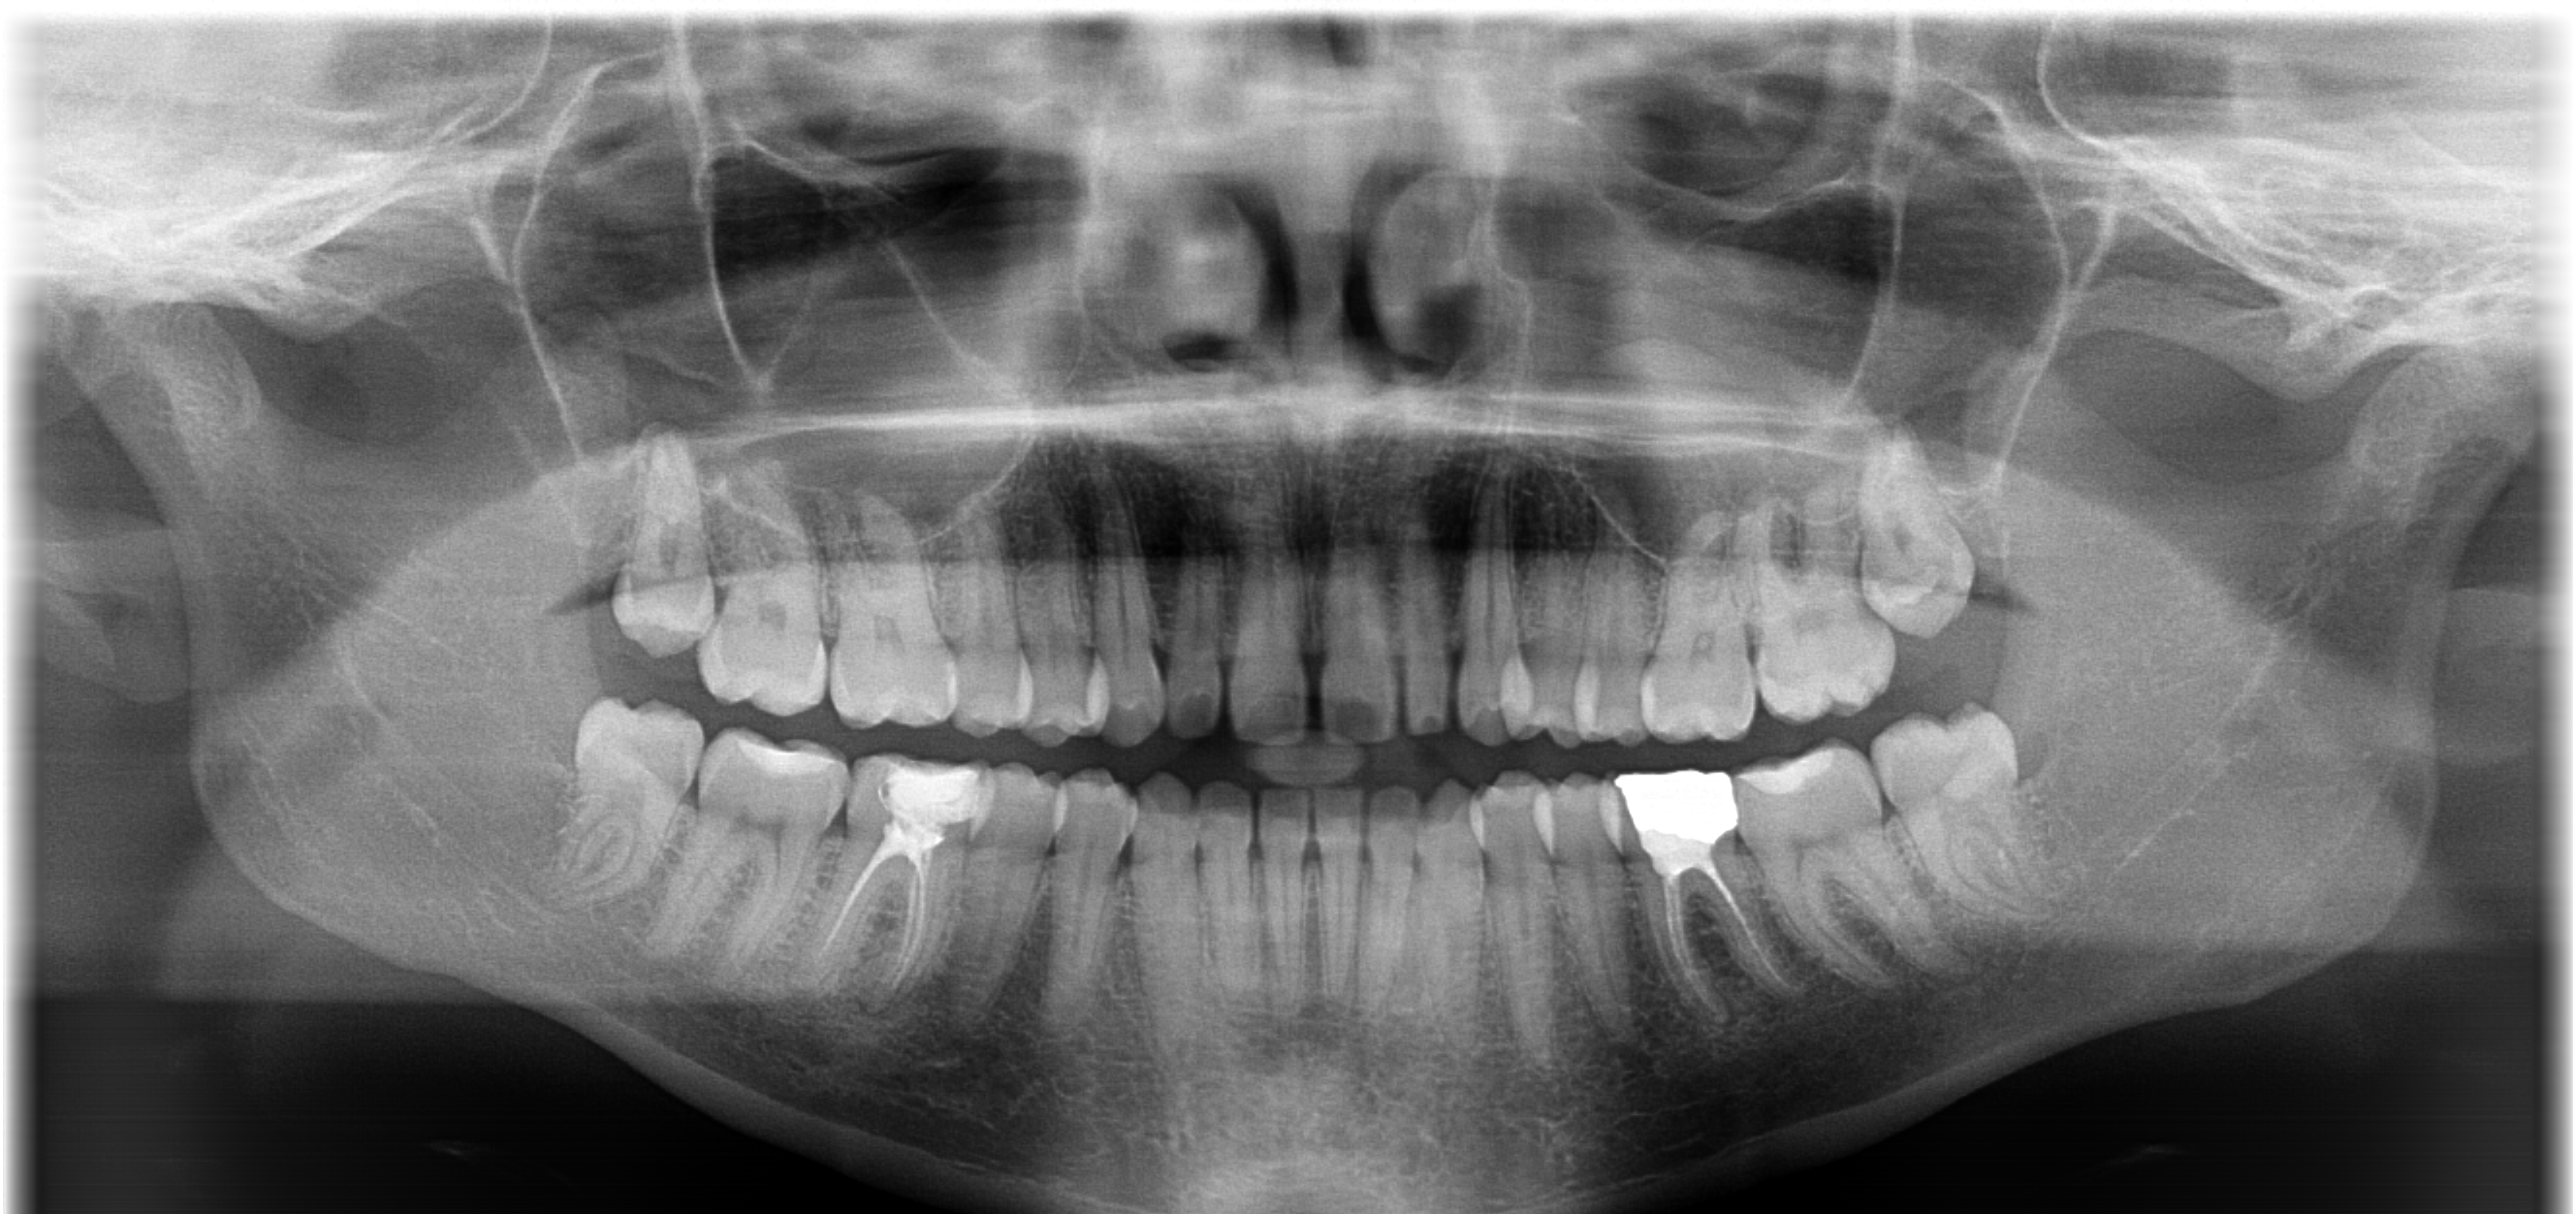cordal: (1860, 687, 2055, 948), (1825, 406, 2021, 667), (562, 424, 757, 685), (532, 669, 716, 925)
diastema: (1204, 572, 1247, 744), (1293, 572, 1336, 744), (1375, 568, 1418, 741), (1441, 565, 1483, 738)
tratamiento_conducto: (1585, 752, 1796, 1033), (795, 734, 1004, 1015)
